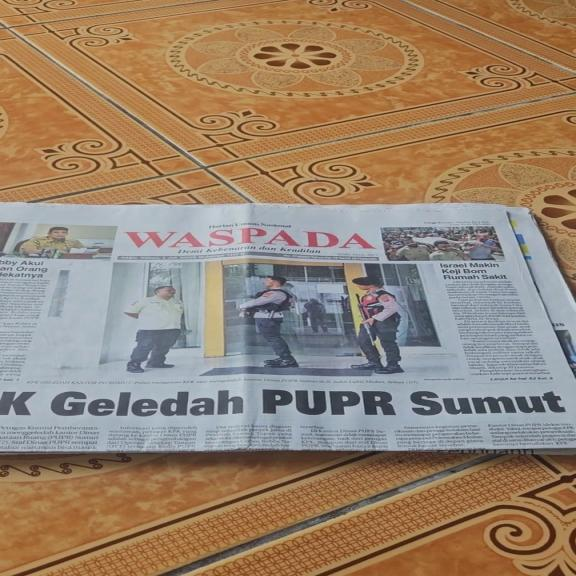Kertas: (8, 208, 567, 451), (5, 203, 543, 263)
